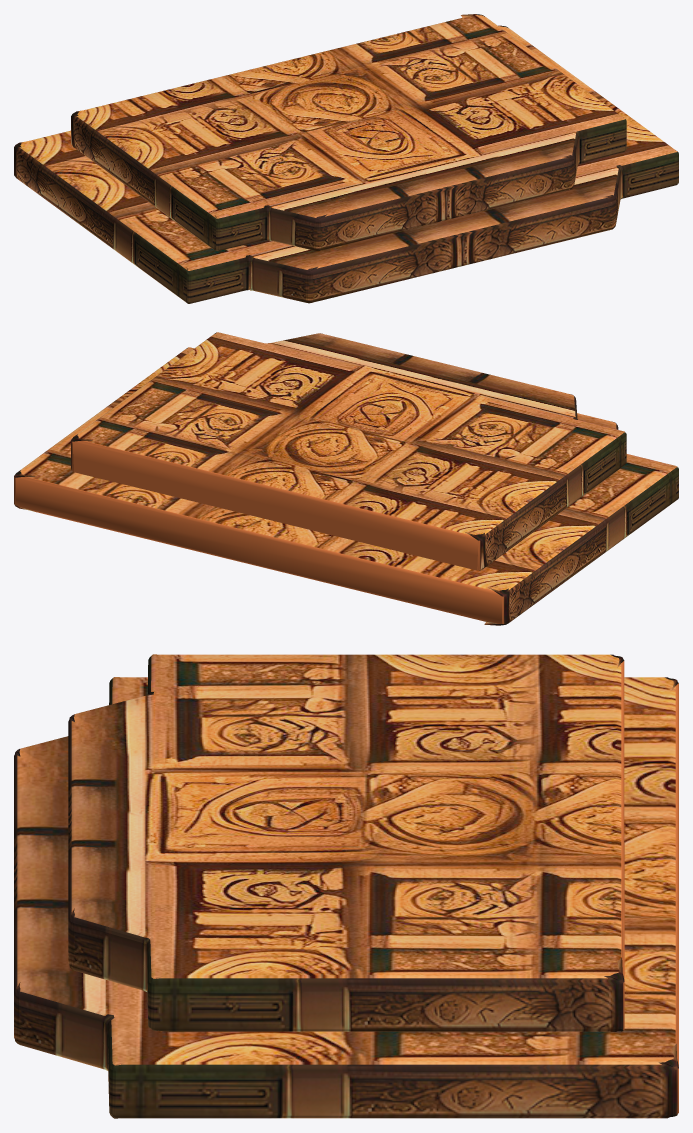
3 views of the same model, one above another, from view 1: azimuth 30°, elevation 25°; view 2: azimuth 150°, elevation 25°; view 3: azimuth 270°, elevation 25° (orthographic). The views are drawn at different scales.
Parts seen in each view (by area): view 1: StandBear; view 2: StandBear; view 3: StandBear.
Part boxes in pixels (x1,y1,x2,y2): StandBear: (14,14,678,303); StandBear: (14,332,678,625); StandBear: (14,654,678,1118).
Bounding box in the file's own units: 3 × 0.4242 × 2.16.
1 material, 1 textured.
